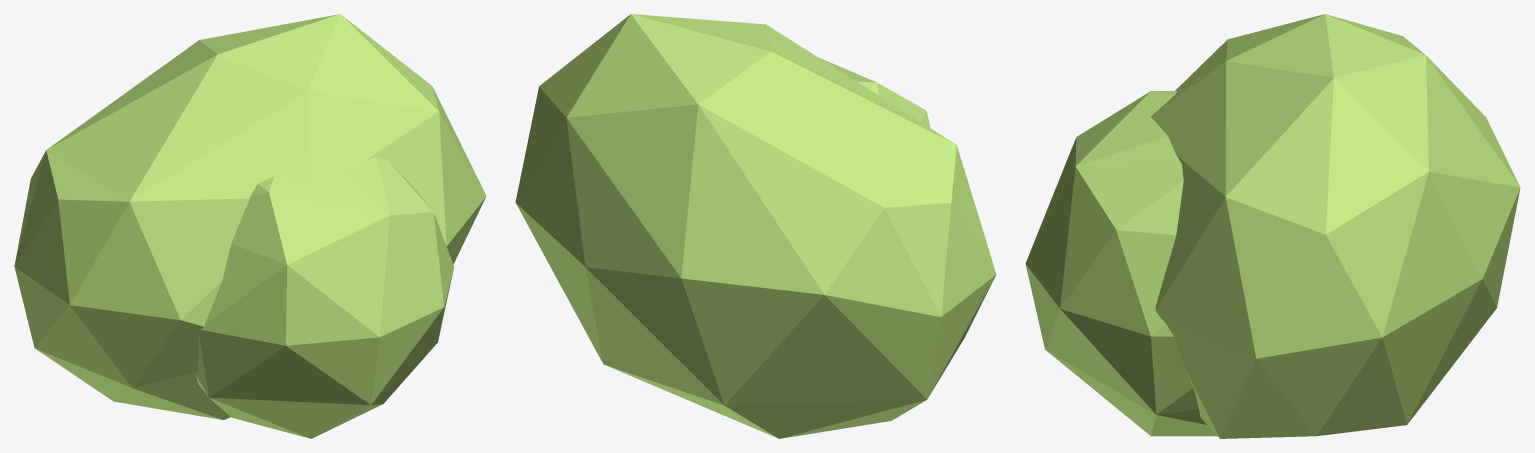
File: Bush_d_m_02.fbx
The picture shows the model from 3 angles, left to right: view 1: azimuth 30°, elevation 25°; view 2: azimuth 150°, elevation 25°; view 3: azimuth 270°, elevation 25°; orthographic projection. The views are drawn at different scales.
Visible parts, largest first — view 1: Bush_d_m_02; view 2: Bush_d_m_02; view 3: Bush_d_m_02.
Boxes of the visible parts, x1=… form: Bush_d_m_02: x1=14, y1=14, x2=486, y2=438; Bush_d_m_02: x1=515, y1=14, x2=996, y2=438; Bush_d_m_02: x1=1025, y1=14, x2=1520, y2=438.
Size of the model in its own units: 157 by 124 by 137.
